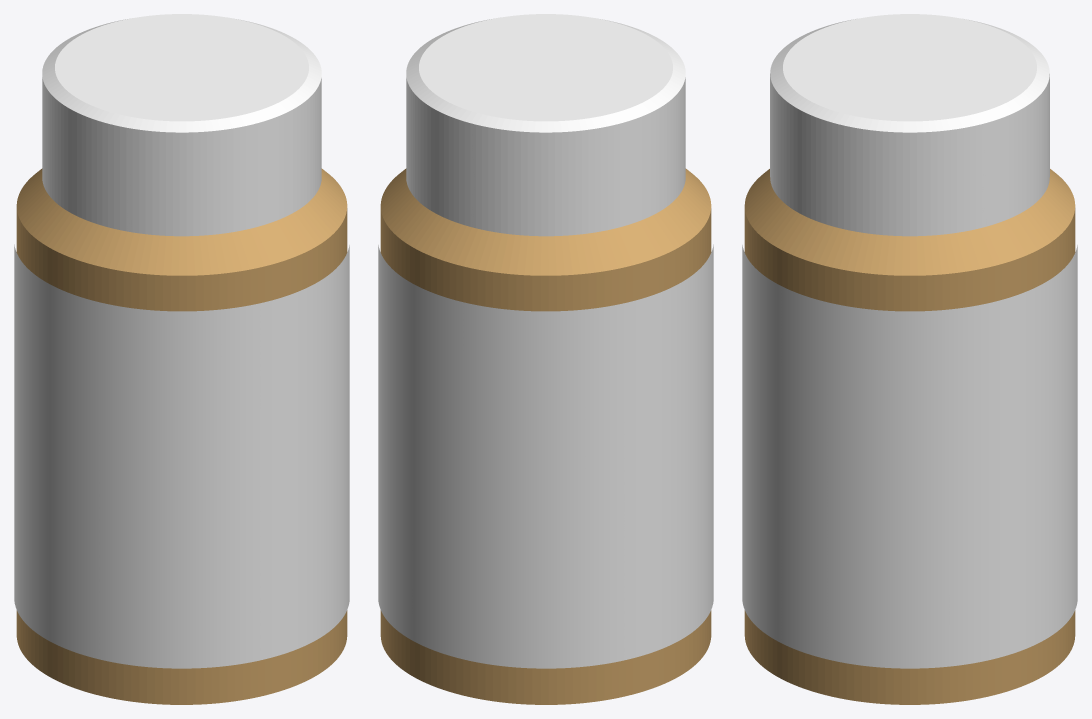
File: pill-bottle-customizable.glb
3 views of the same model, side by side, from view 1: azimuth 30°, elevation 25°; view 2: azimuth 150°, elevation 25°; view 3: azimuth 270°, elevation 25° (orthographic).
Parts seen in each view (by area): view 1: LABEL_PRINT, CAP, BODY; view 2: LABEL_PRINT, CAP, BODY; view 3: LABEL_PRINT, CAP, BODY.
Part boxes in pixels (x1,y1,x2,y2): LABEL_PRINT: (14,244,349,668); CAP: (42,14,321,236); BODY: (16,168,347,704); LABEL_PRINT: (378,244,713,668); CAP: (406,14,685,236); BODY: (380,168,711,704); LABEL_PRINT: (742,245,1077,668); CAP: (770,14,1049,236); BODY: (744,169,1075,704).
Bounding box in the file's own units: 5.28 × 10 × 5.28.
